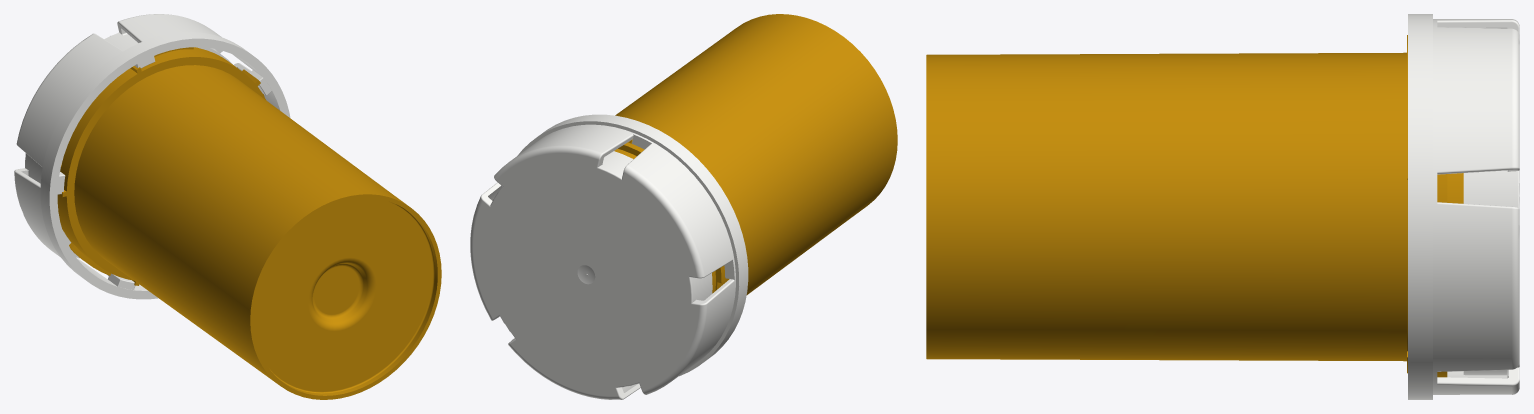
File: pill_tube.glb
3 renders of one model, left to right at view 1: azimuth 30°, elevation 25°; view 2: azimuth 150°, elevation 25°; view 3: azimuth 270°, elevation 25°, orthographic. The views are drawn at different scales.
Parts seen in each view (by area): view 1: Bottle:1, Cap:1; view 2: Cap:1, Bottle:1; view 3: Bottle:1, Cap:1.
Part boxes in pixels (x1,y1,x2,y2): Bottle:1: (57,47,441,399); Cap:1: (14,14,290,299); Cap:1: (470,114,748,399); Bottle:1: (614,14,897,294); Bottle:1: (926,35,1463,377); Cap:1: (1408,14,1519,399).
Size of the model in its own units: 0.0486 by 0.0486 by 0.0748.
